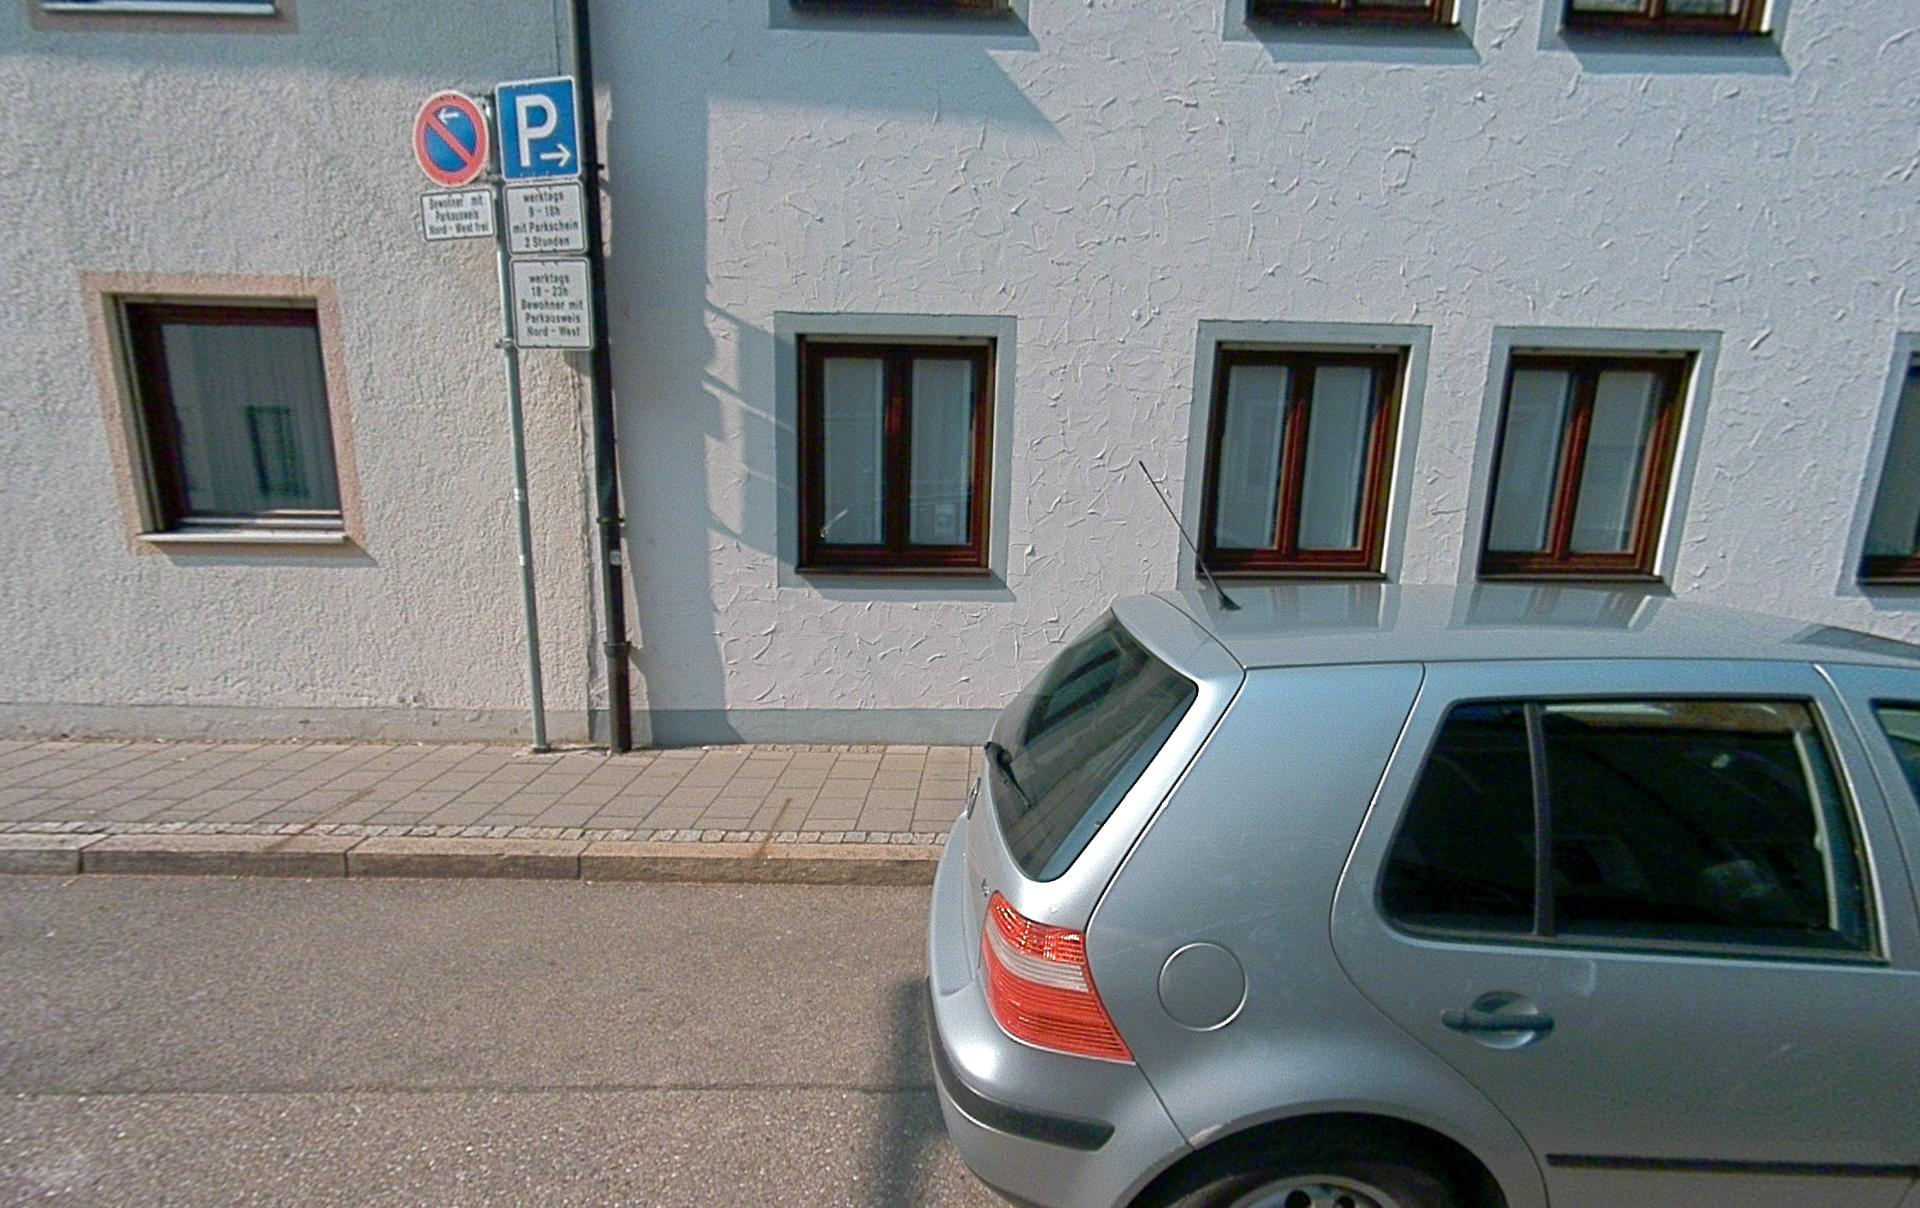car: (924, 582, 1919, 1207)
traffic sign: (495, 75, 582, 182), (508, 257, 594, 351), (413, 90, 490, 186), (503, 181, 589, 256), (419, 188, 495, 241)
